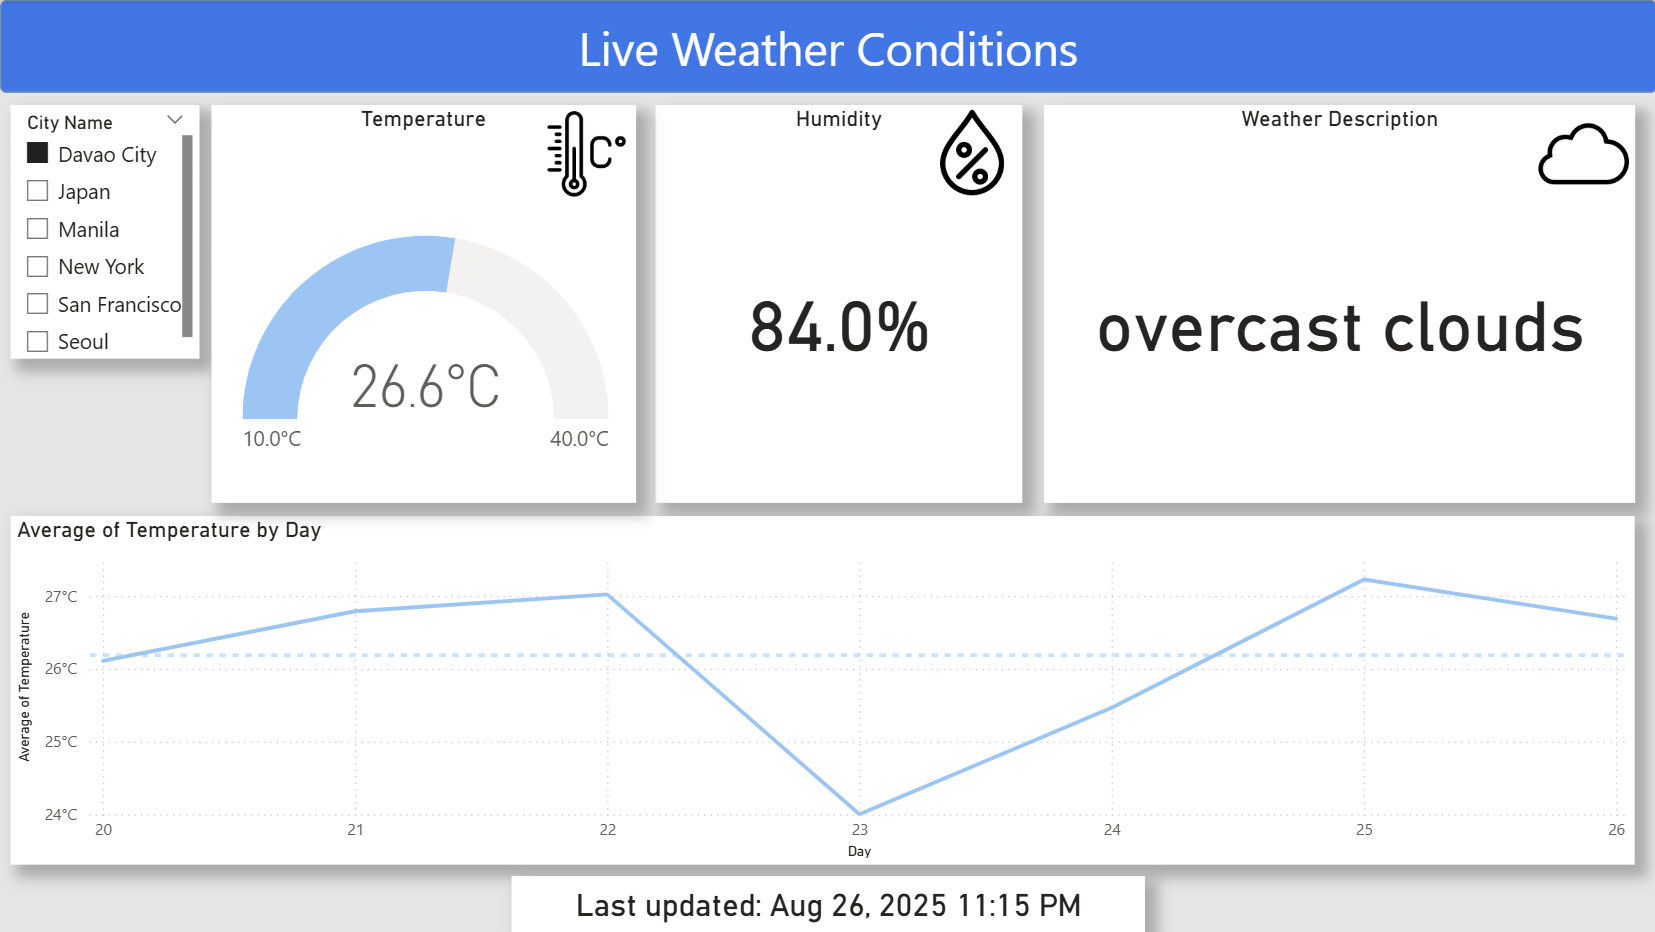

What the dashboard file says about the page in this screenshot:
{"tool":"powerbi","page":{"name":"Dashboard","canvas":[1280,720],"ordinal":0},"visuals":[{"type":"slicer","fields":{"Values":["WeatherData.CityName"]},"box":[8.4,81.3,145.9,196.2],"z":0},{"type":"card","title":"Humidity","fields":{"Values":["Avg(WeatherData.Humidity)"]},"box":[506,81.3,283.5,307.4],"z":2000},{"type":"card","title":"Weather Description","fields":{"Values":["Max(WeatherData.WeatherDescription)"]},"box":[806.3,81.3,457,307.4],"z":3000},{"type":"lineChart","fields":{"Category":["WeatherData.Timestamp.Variation.Date Hierarchy.Year","WeatherData.Timestamp.Variation.Date Hierarchy.Quarter","WeatherData.Timestamp.Variation.Date Hierarchy.Month","WeatherData.Timestamp.Variation.Date Hierarchy.Day"],"Y":["Avg(WeatherData.Temperature)"]},"box":[8.4,398.4,1254.9,269.2],"z":4000},{"type":"shape","box":[0,0,1280,71.8],"z":5000},{"type":"shape","title":"Temperature","box":[163.9,81.3,327.8,307.4],"z":6500},{"type":"image","box":[415.1,71.8,76.6,94.5],"z":6750},{"type":"image","box":[713,69.4,76.6,96.9],"z":7000},{"type":"image","box":[1183.1,71.8,80.1,94.5],"z":8000},{"type":"card","fields":{"Values":["WeatherData.Last Refresh"]},"box":[394.8,677.1,489.3,43.1],"z":9000},{"type":"gauge","fields":{"Y":["Avg(WeatherData.Temperature)"]},"box":[181.8,156.7,293.1,223.7],"z":11000}]}

Visuals, with their boxes in screenshot pixels (x1, y1, x2, y2), scaled from the page's 1280x720 canvas onto the 1655x932 screenshot:
slicer - WeatherData.CityName: <region>11, 105, 200, 359</region>
"Humidity" card: <region>654, 105, 1021, 503</region>
"Weather Description" card: <region>1043, 105, 1633, 503</region>
lineChart - WeatherData.Timestamp.Variation.Date Hierarchy.Year x WeatherData.Timestamp.Variation.Date Hierarchy.Quarter: <region>11, 516, 1633, 864</region>
shape: <region>0, 0, 1654, 93</region>
"Temperature" shape: <region>212, 105, 636, 503</region>
image: <region>537, 93, 636, 215</region>
image: <region>922, 90, 1021, 215</region>
image: <region>1530, 93, 1633, 215</region>
card - WeatherData.Last Refresh: <region>510, 876, 1143, 931</region>
gauge - Avg(WeatherData.Temperature): <region>235, 203, 614, 492</region>
